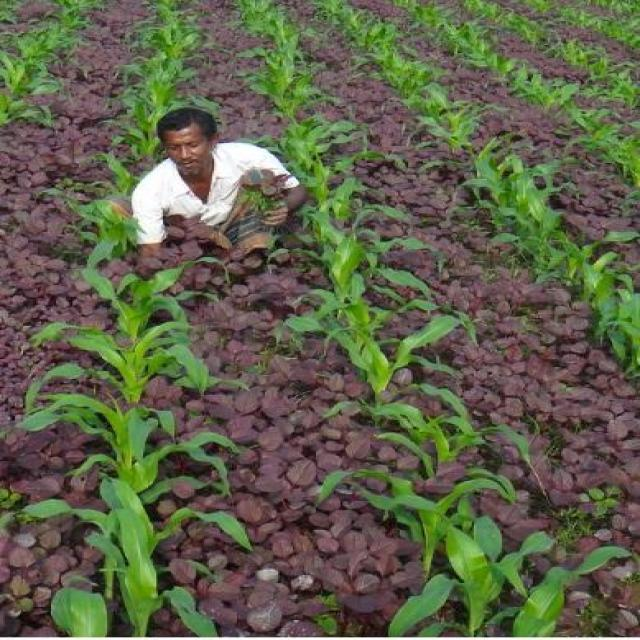row: (289, 0, 640, 640), (157, 0, 425, 640), (0, 0, 166, 638), (361, 2, 637, 283), (436, 0, 640, 145), (507, 0, 640, 78), (0, 0, 61, 62)
